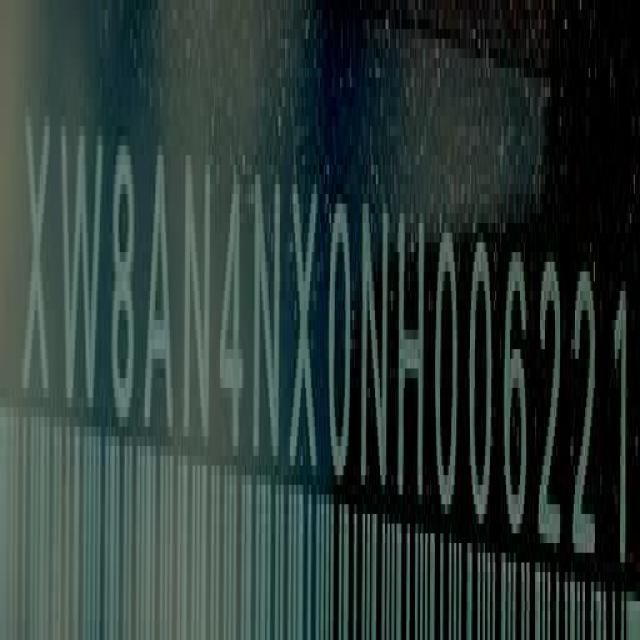0: (432, 213, 461, 517), (466, 230, 494, 530), (327, 187, 353, 494)
1: (612, 275, 634, 571)
2: (572, 262, 600, 559), (538, 262, 564, 558)
4: (217, 156, 245, 465)
6: (503, 245, 531, 540)
8: (111, 134, 138, 433)
A: (142, 143, 174, 446)
H: (395, 194, 427, 503)
N: (251, 158, 285, 471), (182, 126, 214, 445), (363, 190, 395, 500)
W: (59, 107, 102, 430)
X: (291, 166, 324, 484), (24, 95, 54, 422)
